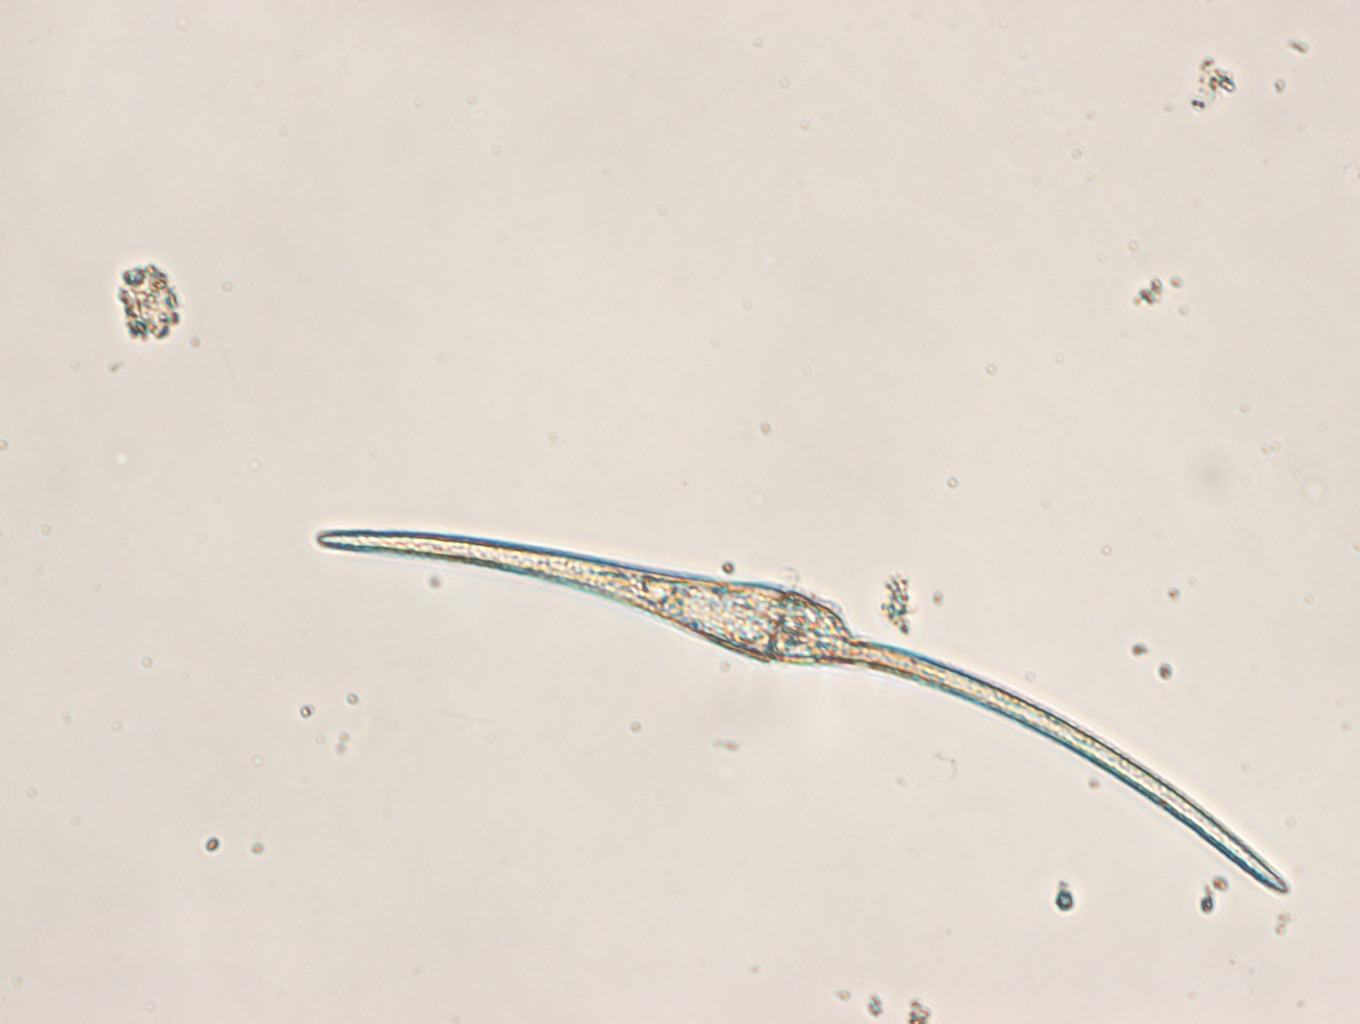ceratium fusus: (314, 525, 1292, 897)
